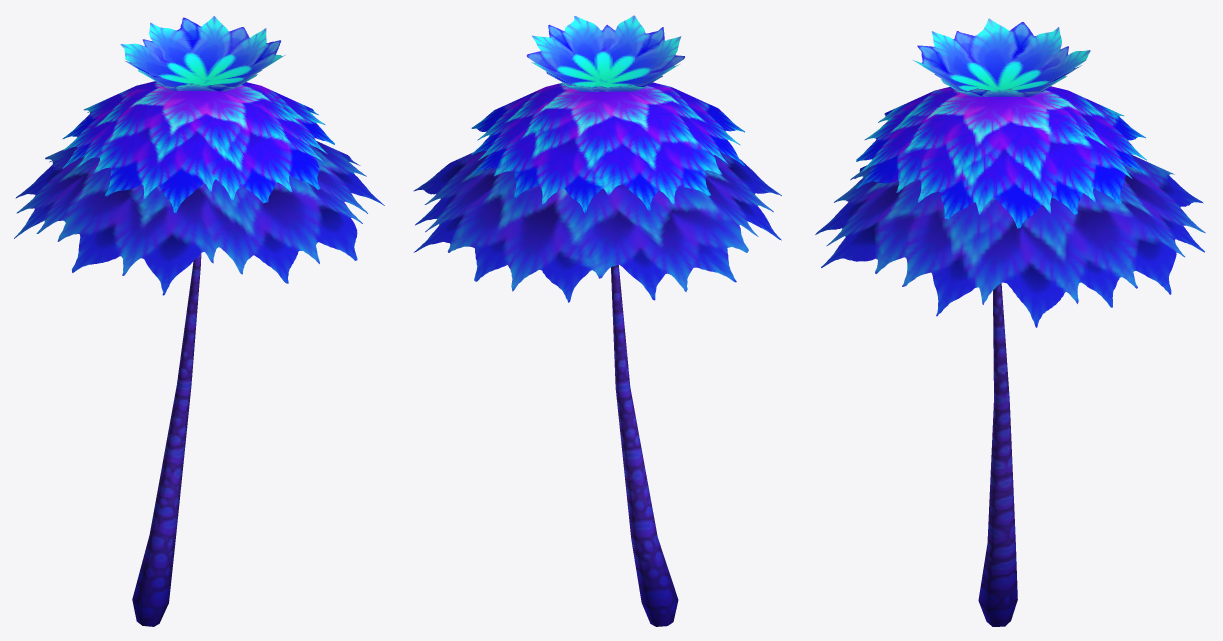
The model's file is Blue_Tree_05a.FBX.
3 views of the same model, side by side, from view 1: azimuth 30°, elevation 25°; view 2: azimuth 150°, elevation 25°; view 3: azimuth 270°, elevation 25° (orthographic). The views are drawn at different scales.
Visible parts, largest first — view 1: Blue_Tree_05a; view 2: Blue_Tree_05a; view 3: Blue_Tree_05a.
Boxes of the visible parts, <box> form: Blue_Tree_05a: <box>14,16,384,626</box>; Blue_Tree_05a: <box>413,15,781,626</box>; Blue_Tree_05a: <box>815,18,1205,626</box>.
Bounding box in the file's own units: 259 × 375 × 224.
